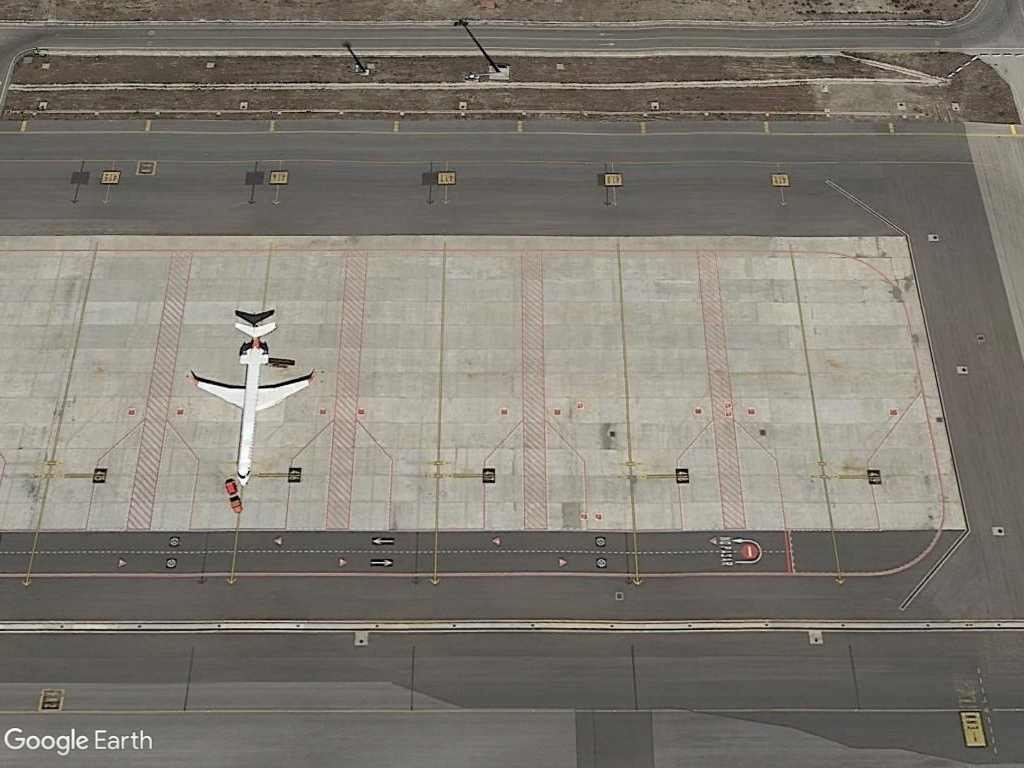chartered: (187, 314, 315, 489)
